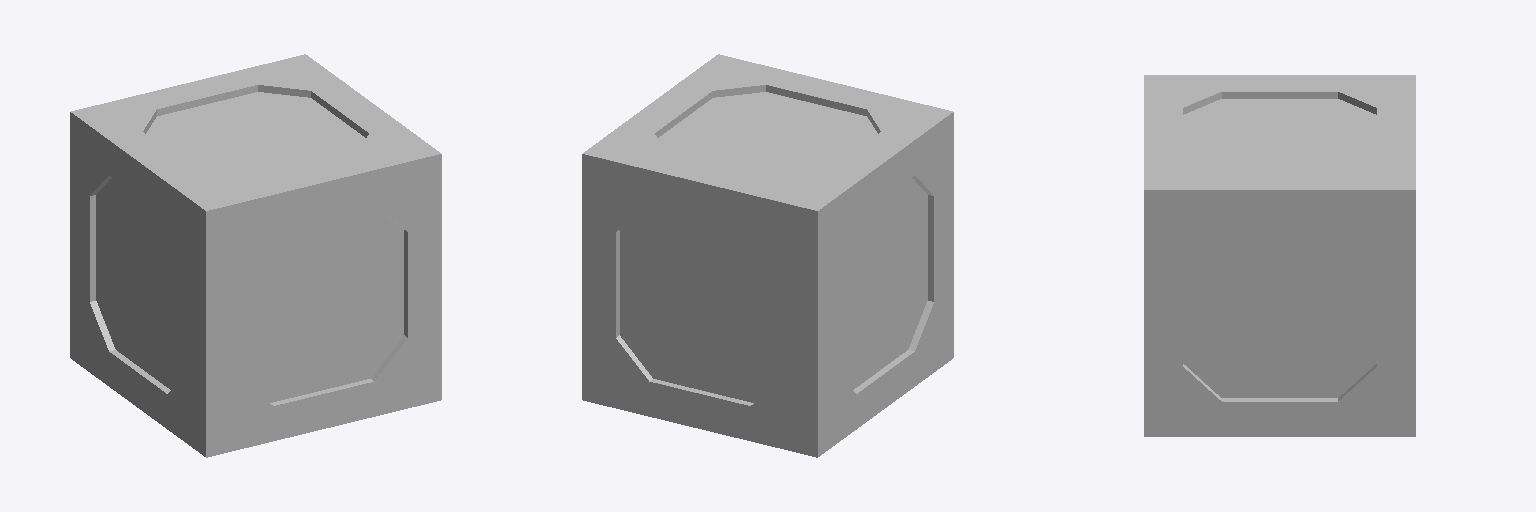
The model's file is box_design.obj.
3 views of the same model, side by side, from view 1: azimuth 30°, elevation 25°; view 2: azimuth 150°, elevation 25°; view 3: azimuth 270°, elevation 25° (orthographic).
Parts seen in each view (by area): view 1: Line007, Center002; view 2: Line007, Center002; view 3: Line007, Center002.
Boxes of the visible parts, x1=… form: Line007: x1=70, y1=54, x2=441, y2=457; Center002: x1=90, y1=85, x2=407, y2=405; Line007: x1=582, y1=54, x2=953, y2=457; Center002: x1=616, y1=85, x2=933, y2=405; Line007: x1=1144, y1=75, x2=1415, y2=436; Center002: x1=1183, y1=92, x2=1376, y2=401.
Size of the model in its own units: 140 by 140 by 140.